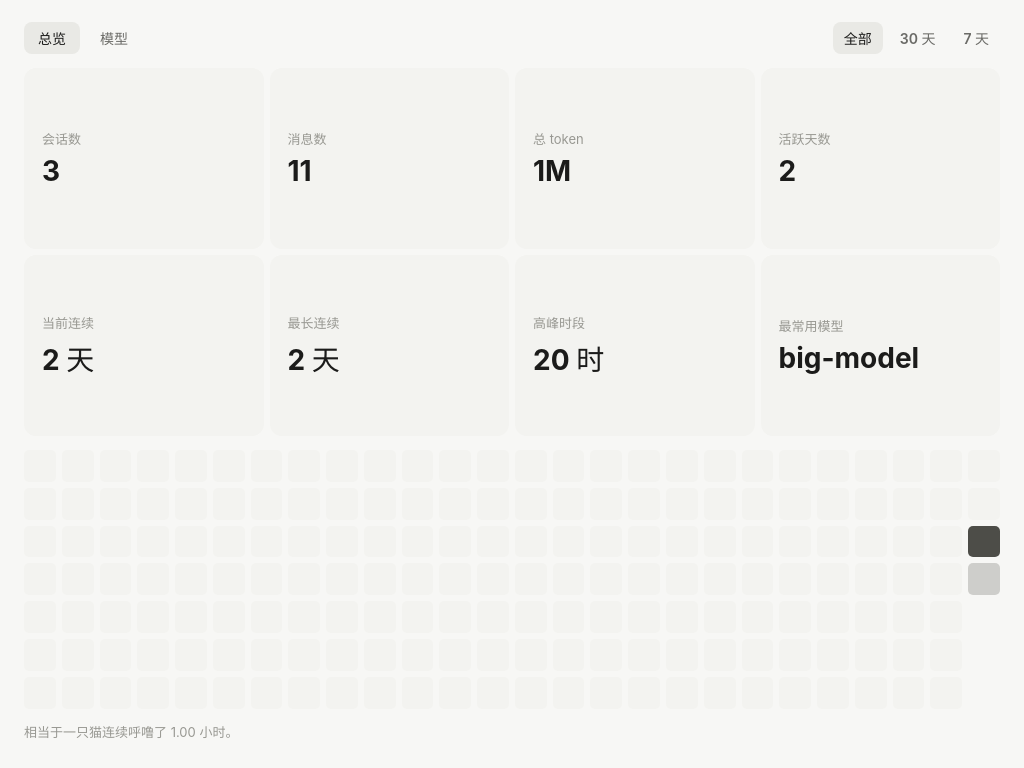
Test: UsageStatsCard › steps through the buckets from the keyboard, not just the mouse
This screenshot has width=1024, height=768.
Click the tab "模型" at (114, 38), box [86,22,142,54]
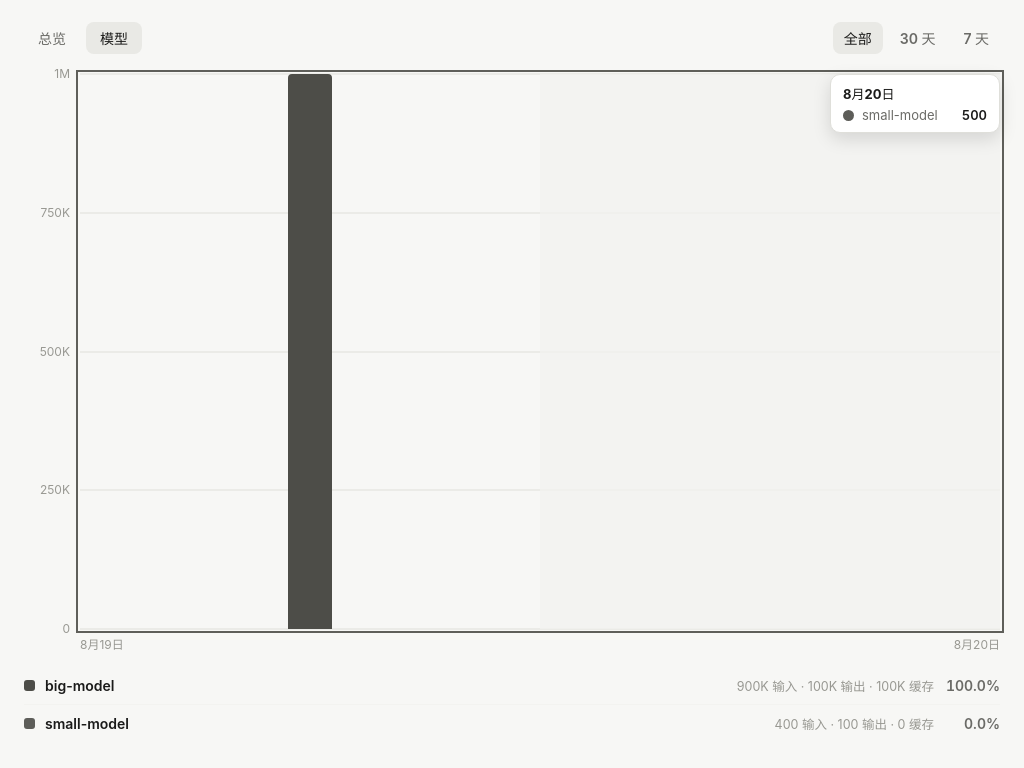
Now the 1st text "8月20日" is shown, box [843,86,894,102]
Press Arrowleft
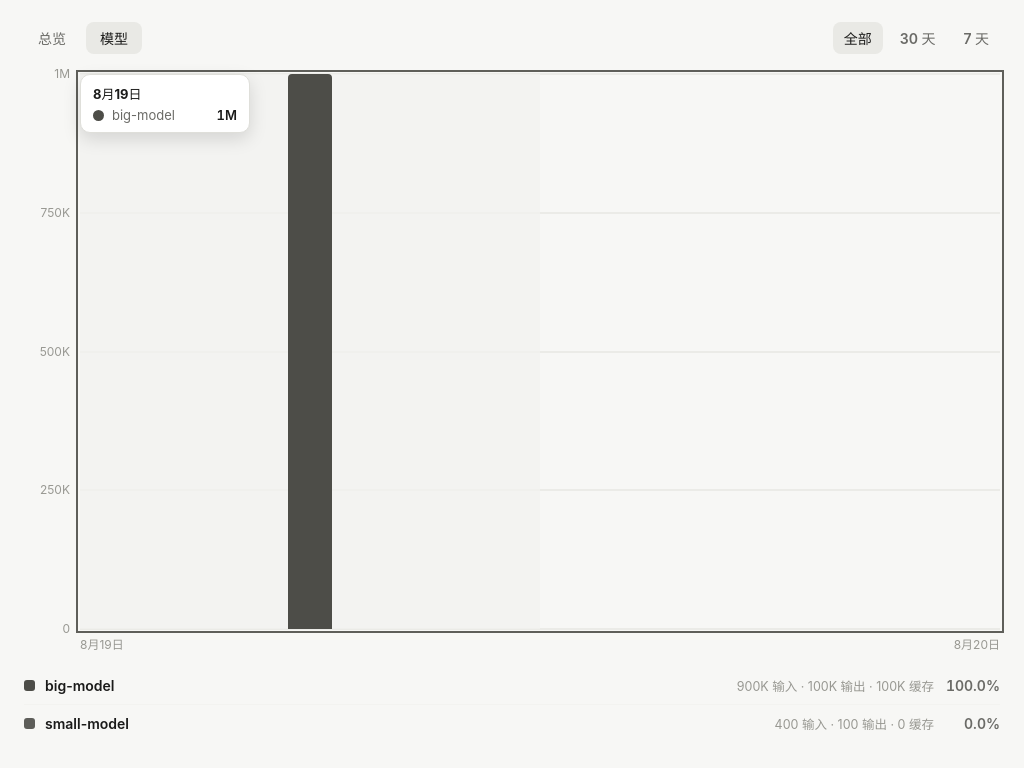
Now the 1st text "8月19日" is shown, box [93,86,142,102]
Note: Stops at the oldest bucket rather than wrapping or going out of range.
Press Arrowleft Arrowleft
Now the 1st text "8月19日" is shown, box [93,86,142,102]
Press End
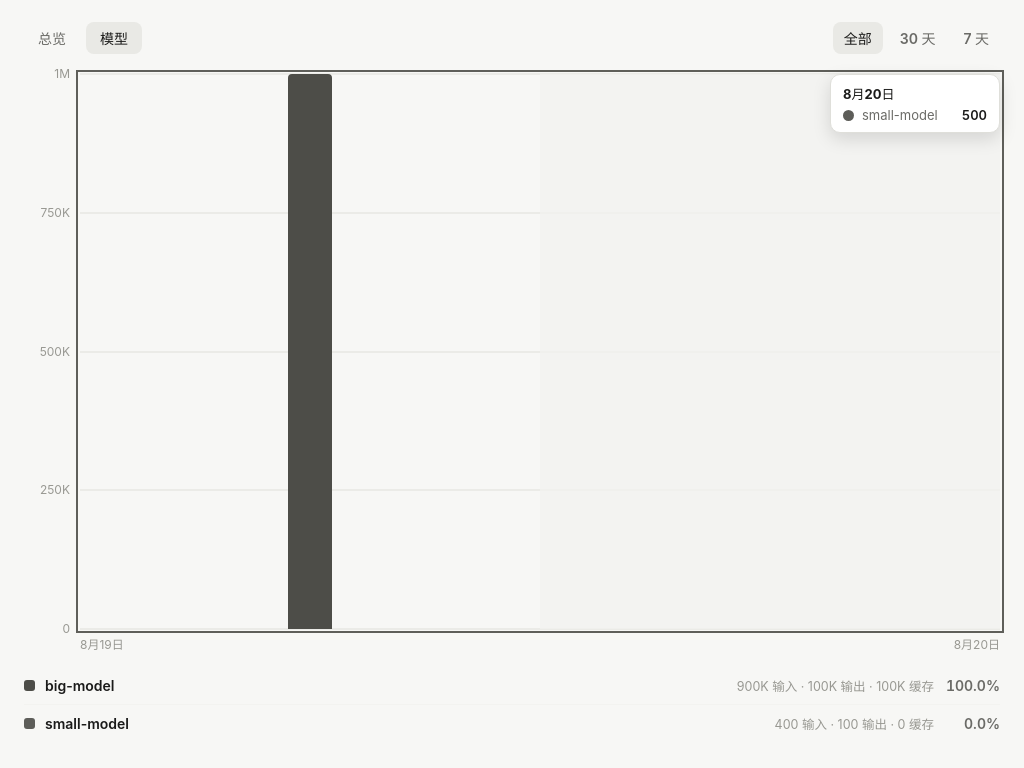
Now the 1st text "8月20日" is shown, box [843,86,894,102]
Press Escape
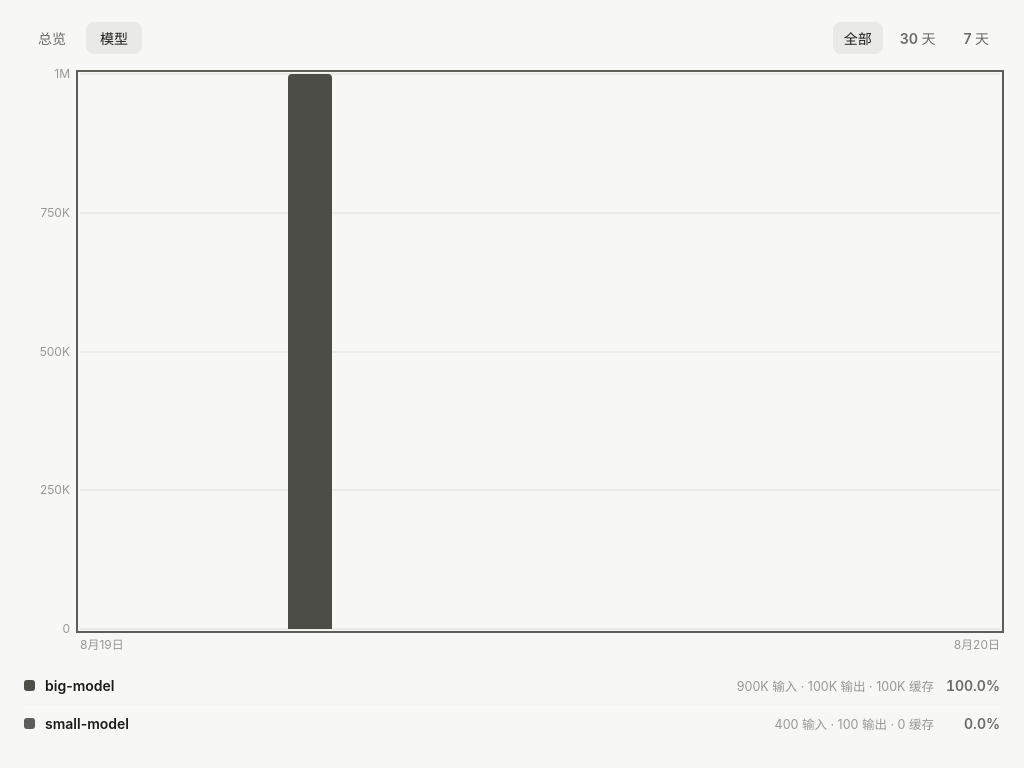
Now the element with class "usage-stats__chart-tip" is gone
